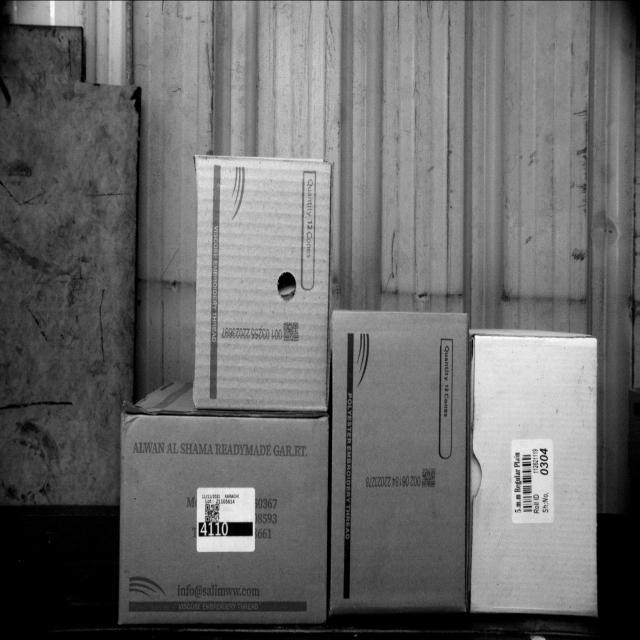box: (114, 413, 328, 634), (334, 312, 471, 623), (476, 334, 596, 615), (201, 158, 328, 422)
